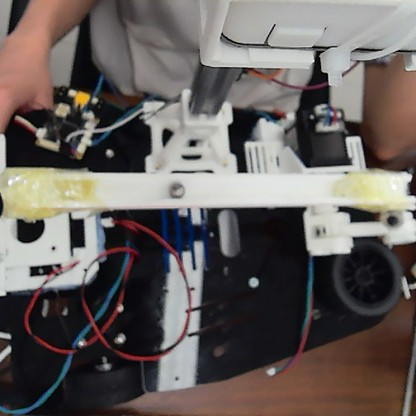ironball: (165, 178, 183, 197)
